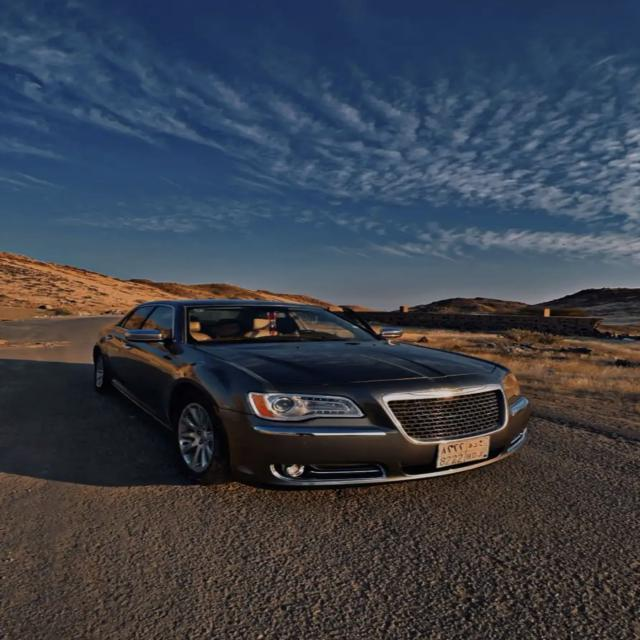license_plate: (438, 436, 491, 468)
